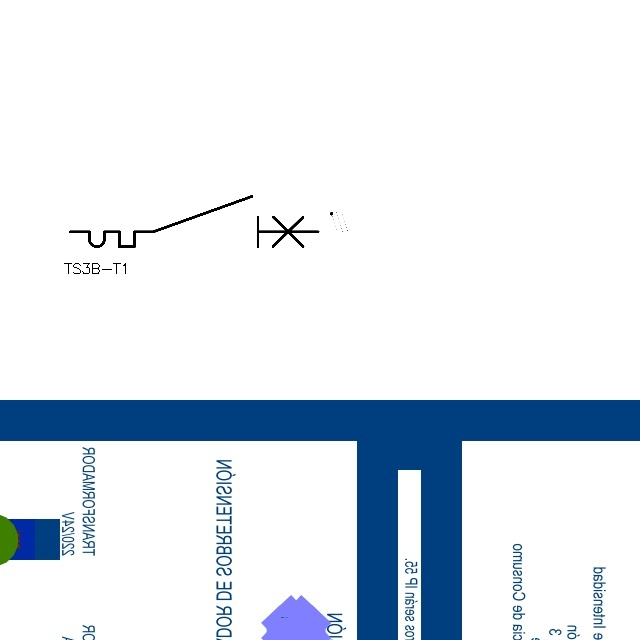interruptor_termomagnetico: (64, 190, 324, 253)
